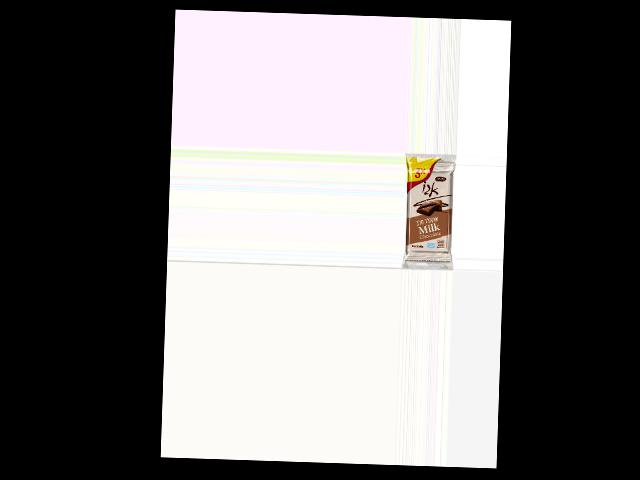chocolate: (402, 152, 457, 259)
